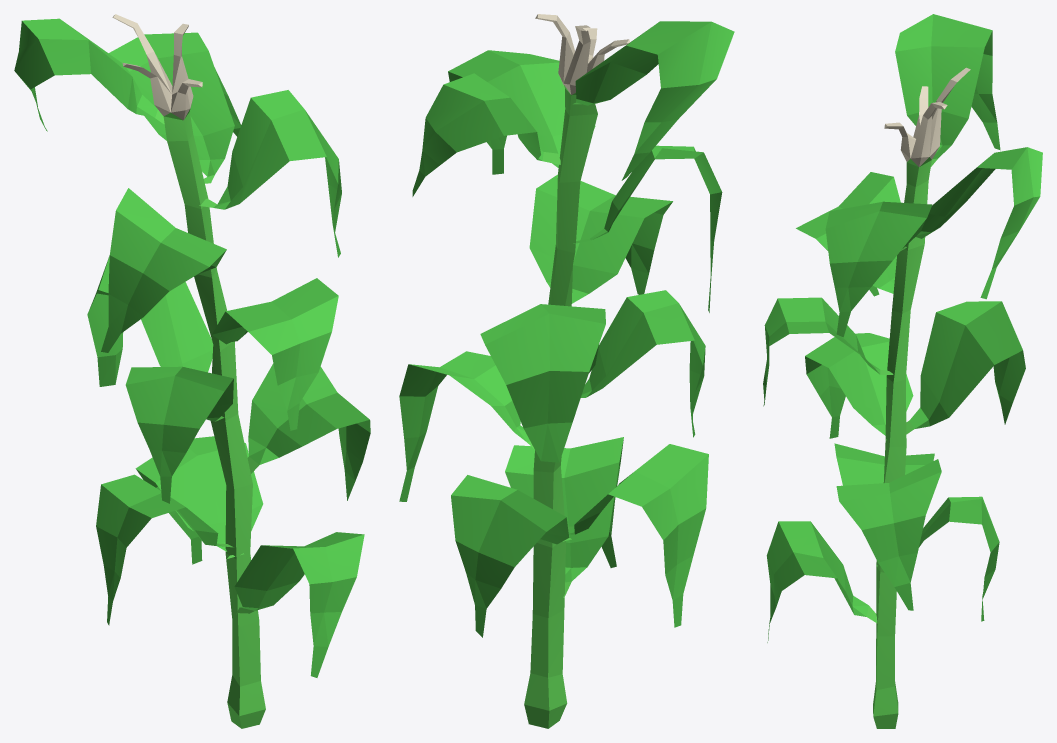
Rendered from SM_Prop_Plant_Corn_01_L_Var_03.fbx.
3 renders of one model, left to right at view 1: azimuth 30°, elevation 25°; view 2: azimuth 150°, elevation 25°; view 3: azimuth 270°, elevation 25°, orthographic. The views are drawn at different scales.
Parts seen in each view (by area): view 1: SM_Prop_Plant_Corn_01_L_Var_03; view 2: SM_Prop_Plant_Corn_01_L_Var_03; view 3: SM_Prop_Plant_Corn_01_L_Var_03.
Part boxes in pixels (bbox=[...]): SM_Prop_Plant_Corn_01_L_Var_03: bbox=[14, 14, 370, 728]; SM_Prop_Plant_Corn_01_L_Var_03: bbox=[399, 14, 734, 728]; SM_Prop_Plant_Corn_01_L_Var_03: bbox=[763, 14, 1042, 728].
Size of the model in its own units: 0.985 by 2.19 by 0.8771.
Materials: 1 (1 with a texture image).
